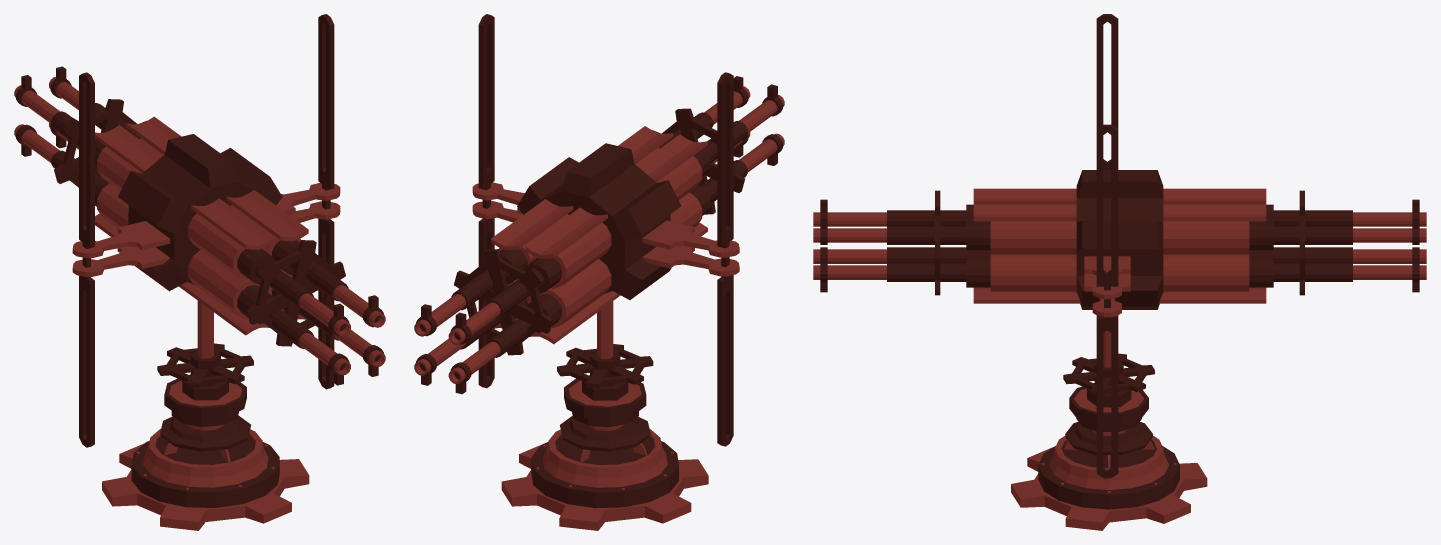
File: Gun_10.glb
The picture shows the model from 3 angles, left to right: view 1: azimuth 30°, elevation 25°; view 2: azimuth 150°, elevation 25°; view 3: azimuth 270°, elevation 25°; orthographic projection. The views are drawn at different scales.
Parts seen in each view (by area): view 1: Gun_10_Gun, Gun_10_Base, Gun_10_Mid; view 2: Gun_10_Gun, Gun_10_Base, Gun_10_Mid; view 3: Gun_10_Gun, Gun_10_Base, Gun_10_Mid.
Part boxes in pixels (bbox=[...]): Gun_10_Gun: bbox=[14, 14, 385, 447]; Gun_10_Base: bbox=[102, 374, 309, 530]; Gun_10_Mid: bbox=[157, 301, 253, 400]; Gun_10_Gun: bbox=[414, 14, 784, 446]; Gun_10_Base: bbox=[501, 378, 708, 530]; Gun_10_Mid: bbox=[557, 301, 653, 400]; Gun_10_Gun: bbox=[813, 14, 1426, 478]; Gun_10_Base: bbox=[1011, 383, 1207, 530]; Gun_10_Mid: bbox=[1063, 315, 1154, 407].
Bounding box in the file's own units: 1.36 × 2.18 × 2.88.
